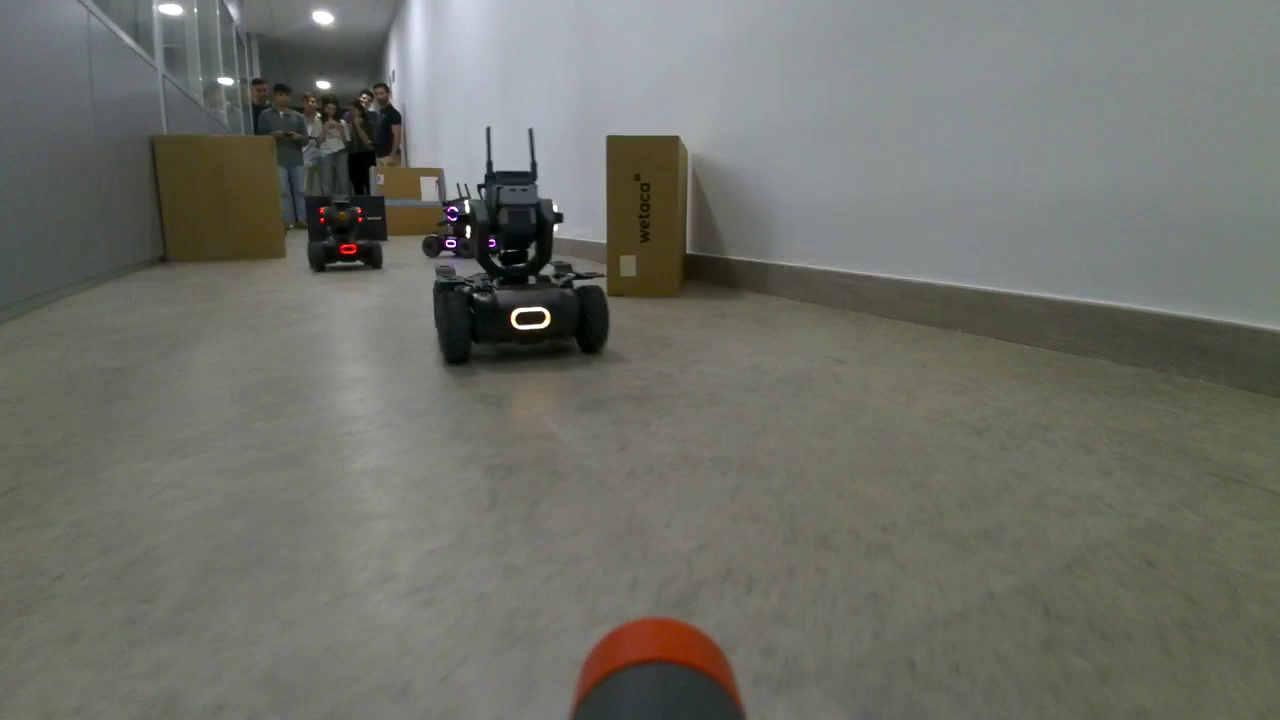robot: (431, 163, 611, 371), (306, 199, 385, 277)
